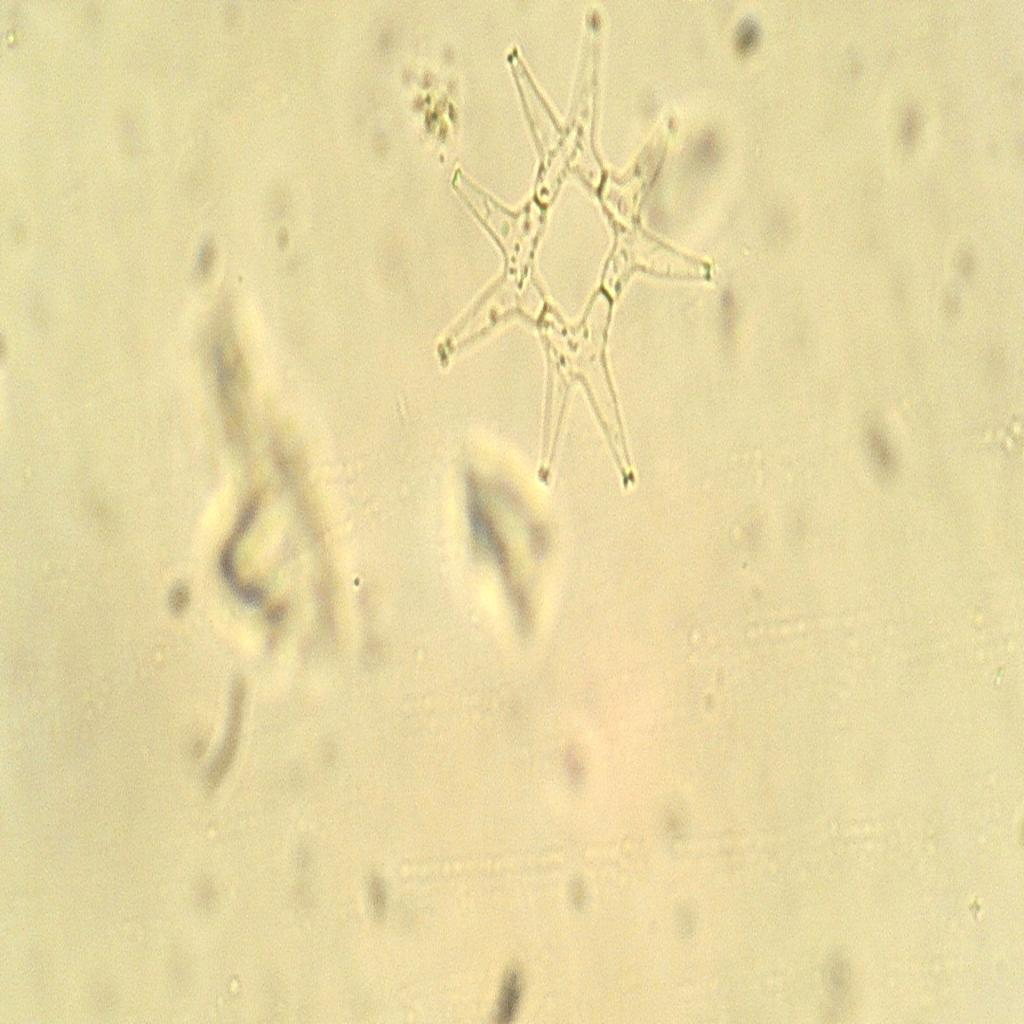Pediastrum_75TH: (438, 8, 718, 506)
